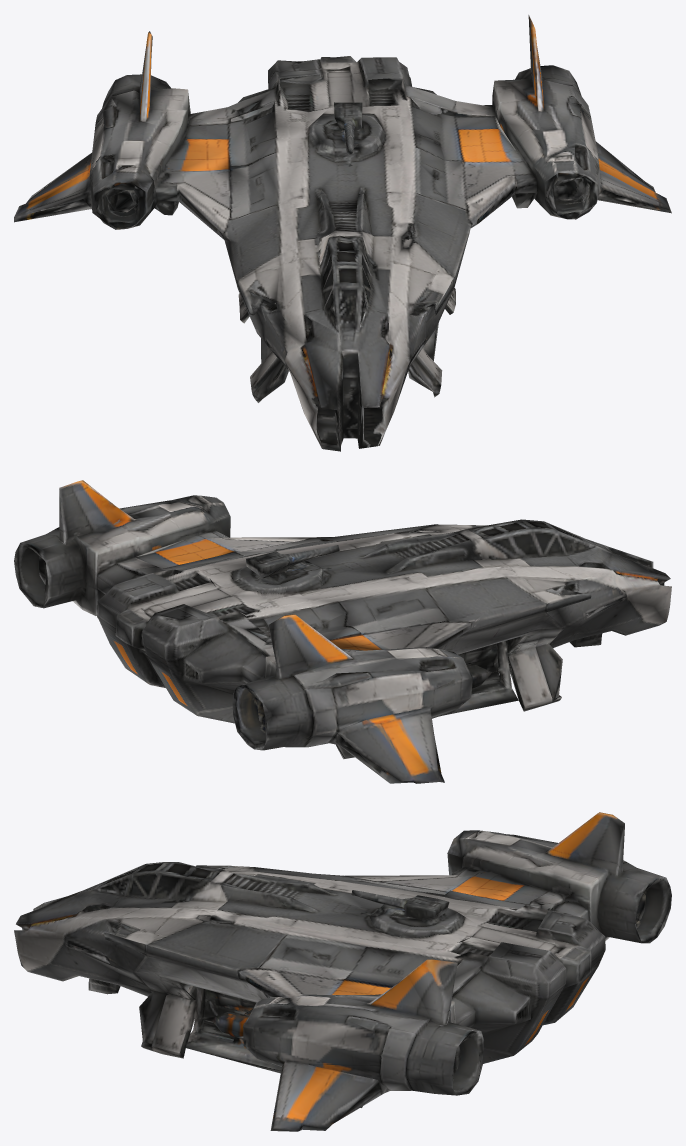
File: tripo-rebaked-3000.glb
The picture shows the model from 3 angles, top to bottom: view 1: azimuth 30°, elevation 25°; view 2: azimuth 150°, elevation 25°; view 3: azimuth 270°, elevation 25°; orthographic projection.
Parts seen in each view (by area): view 1: Low; view 2: Low; view 3: Low.
Boxes of the visible parts, x1,y1,x2,y2 form: Low: [14, 15, 671, 451]; Low: [14, 480, 671, 783]; Low: [14, 812, 671, 1131].
Bounding box in the file's own units: 0.8834 × 0.3452 × 0.9796.
1 material, 1 textured.
